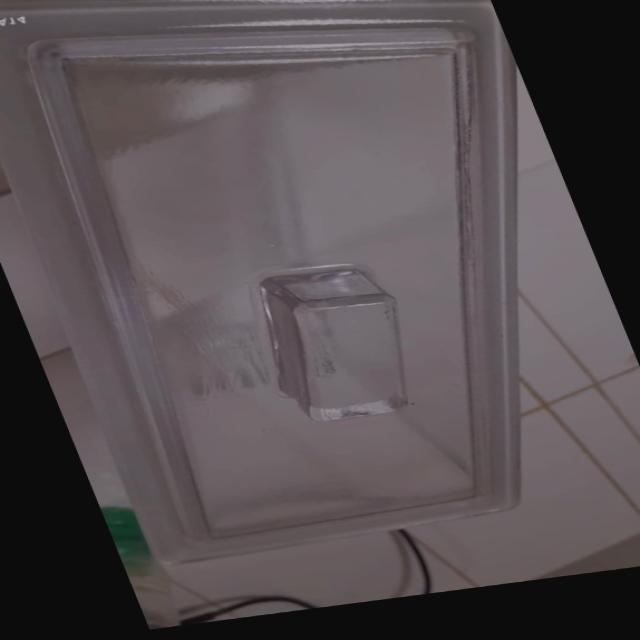TLC Tank: (0, 0, 640, 580)
